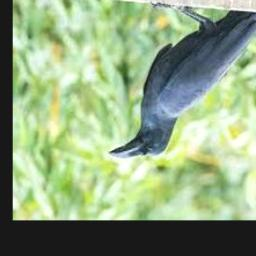Crow: (108, 0, 256, 159)
